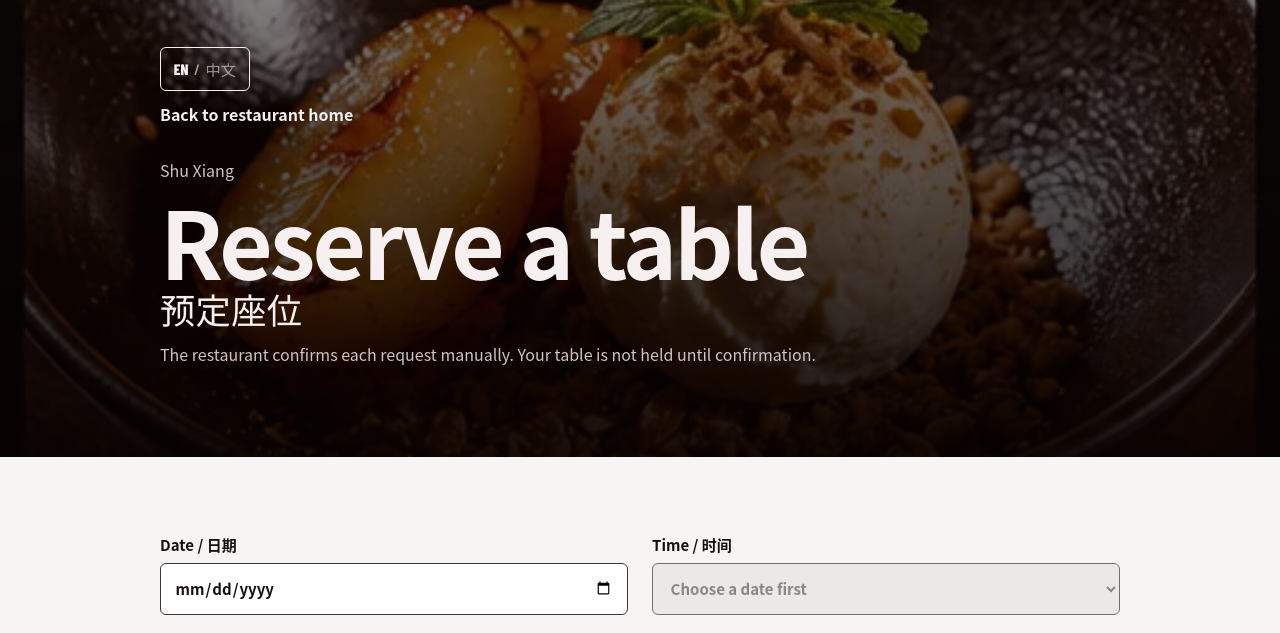
Test case: customer reservation pages › loads available times and creates a pending reservation request
Type "2026-06-12" into the date field labelled "Date / 日期" at (394, 589), box [160,563,628,615]
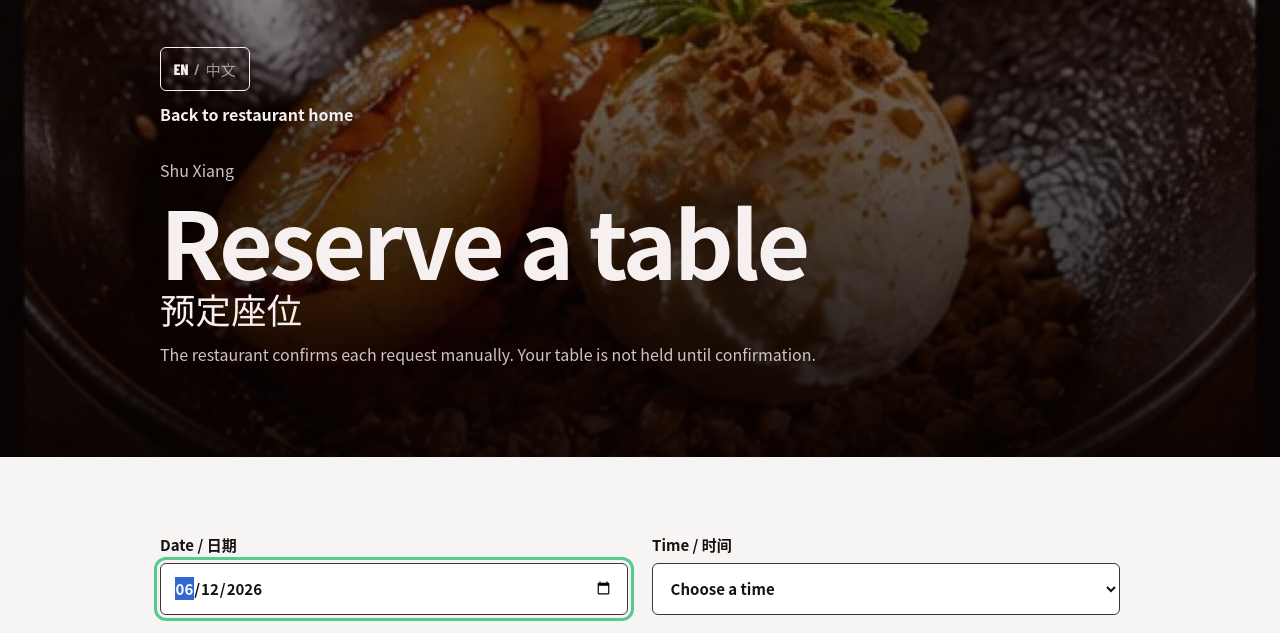
Select "18:00" in the dropdown labelled "Time / 时间" at (886, 589), box [652,563,1120,615]
(page scrolled)
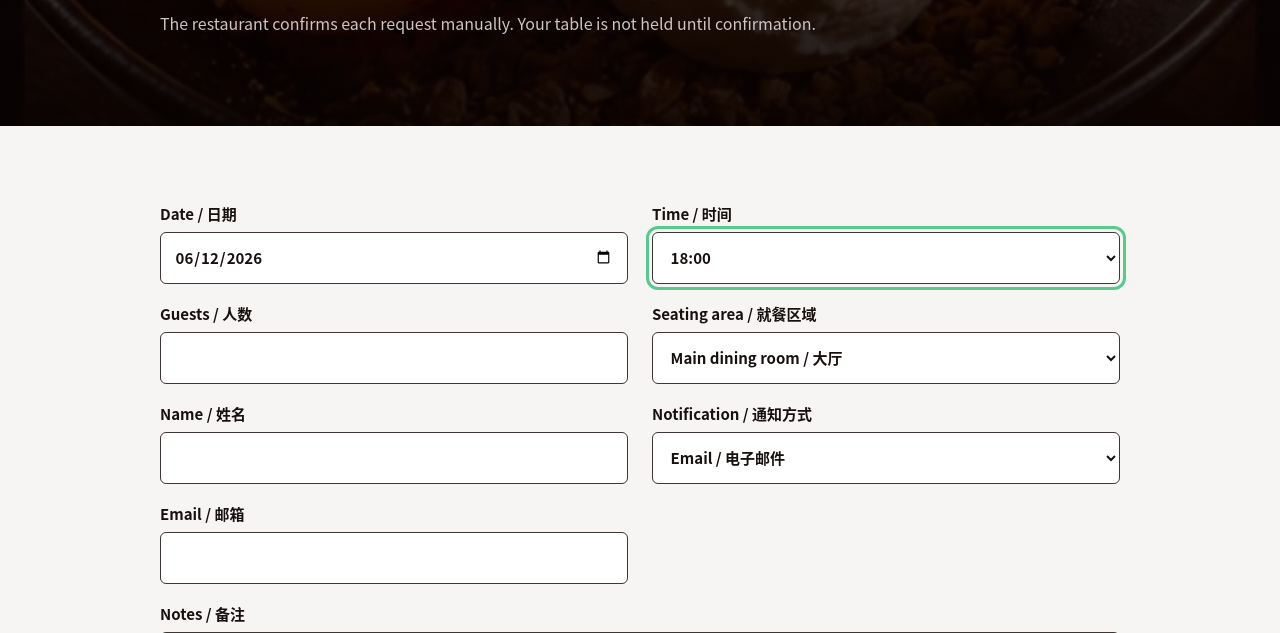
Type "4" into the number field labelled "Guests / 人数" at (394, 358), box [160,332,628,384]
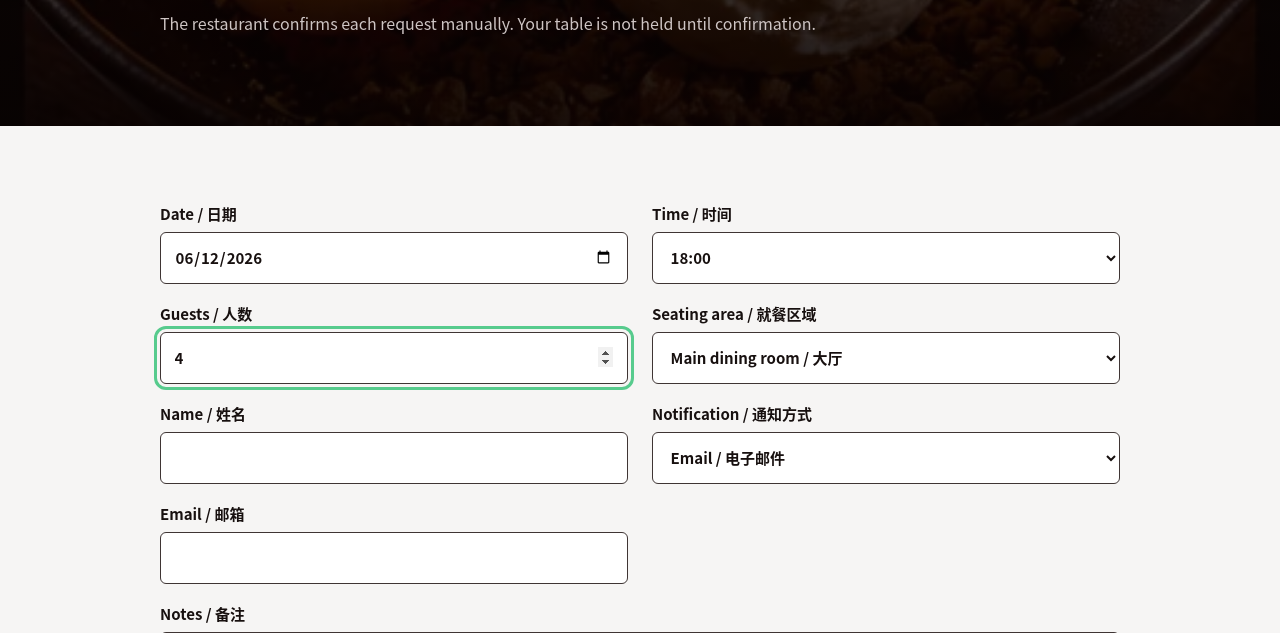
Type "王小明" into the field labelled "Name / 姓名" at (394, 458), box [160,432,628,484]
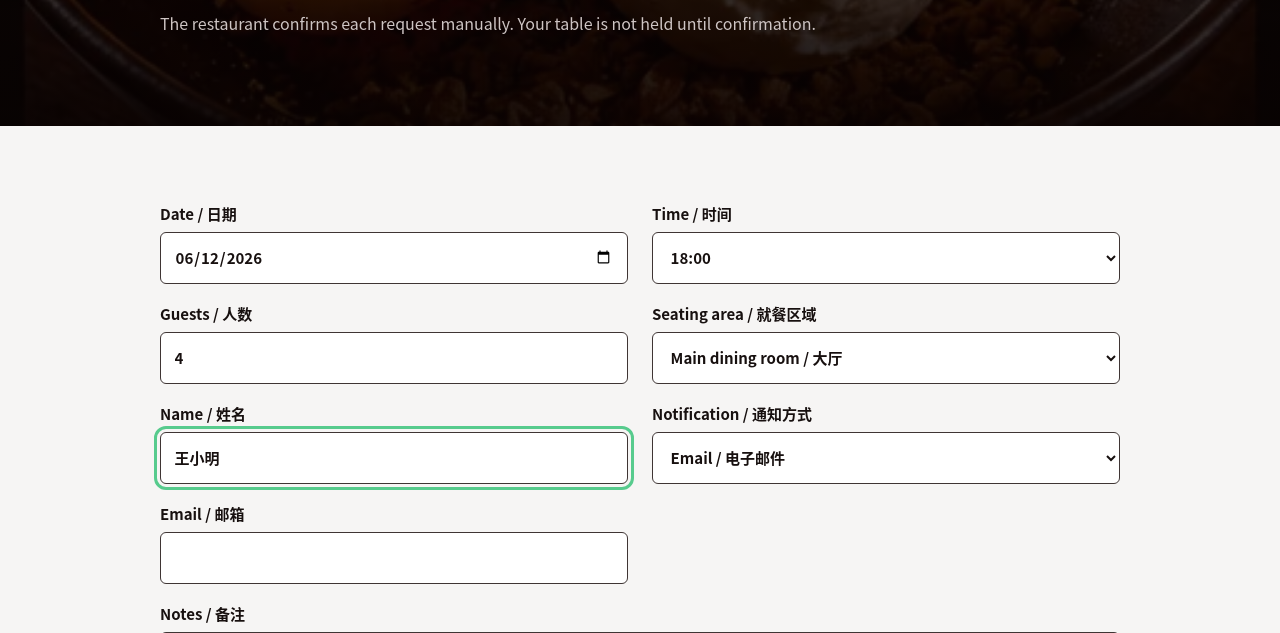
Type "guest@example.com" into the field labelled "Email / 邮箱" at (394, 558), box [160,532,628,584]
(page scrolled)
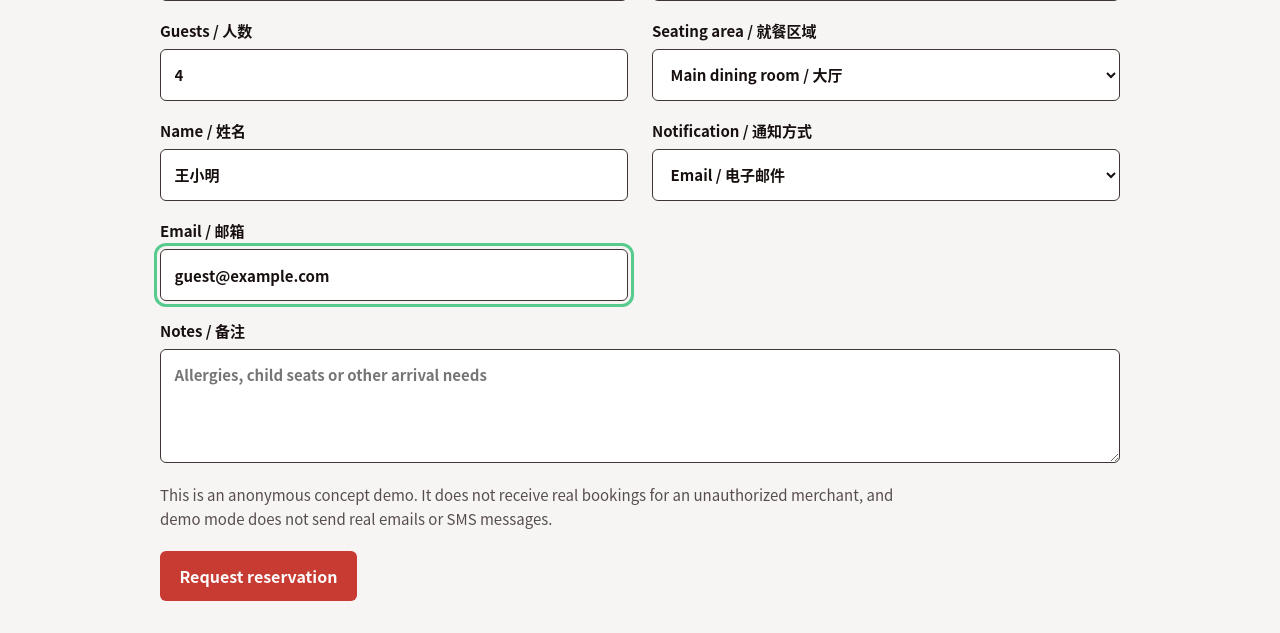
Click the button "Request reservation" at (258, 576), box [160,550,357,600]
(page scrolled)
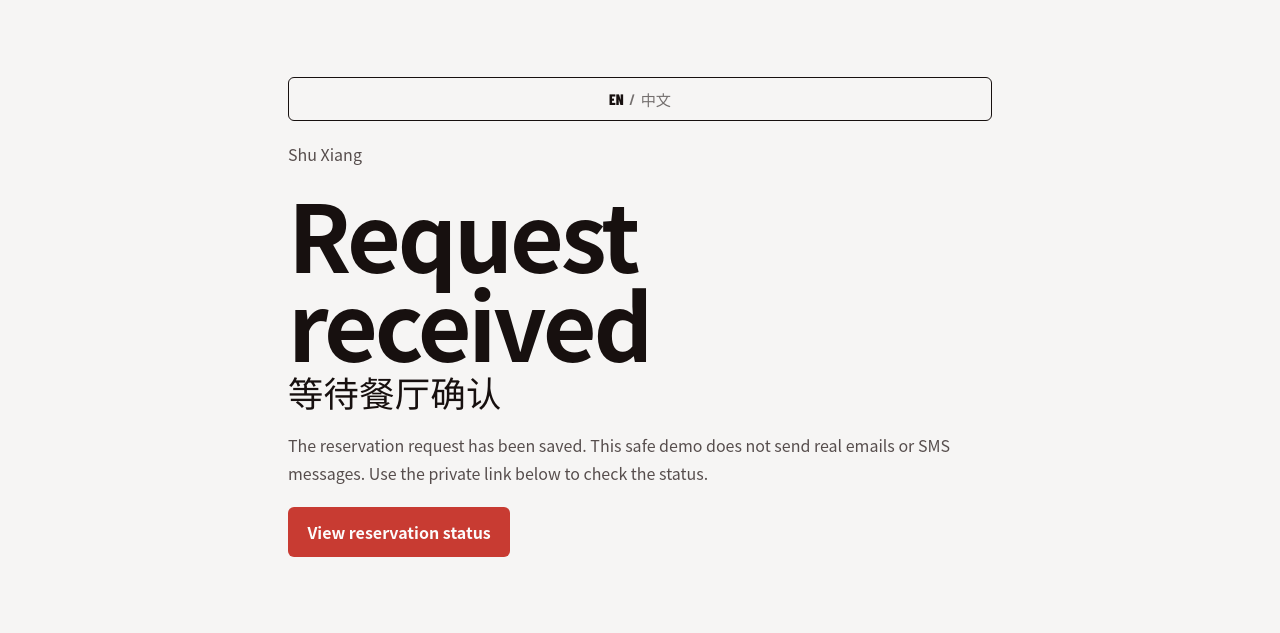
Expected: the heading "Request received 等待餐厅确认" is shown, [288,165,650,414]
Expected: the text "does not send real emails or SMS messages" is shown, [288,434,950,485]
